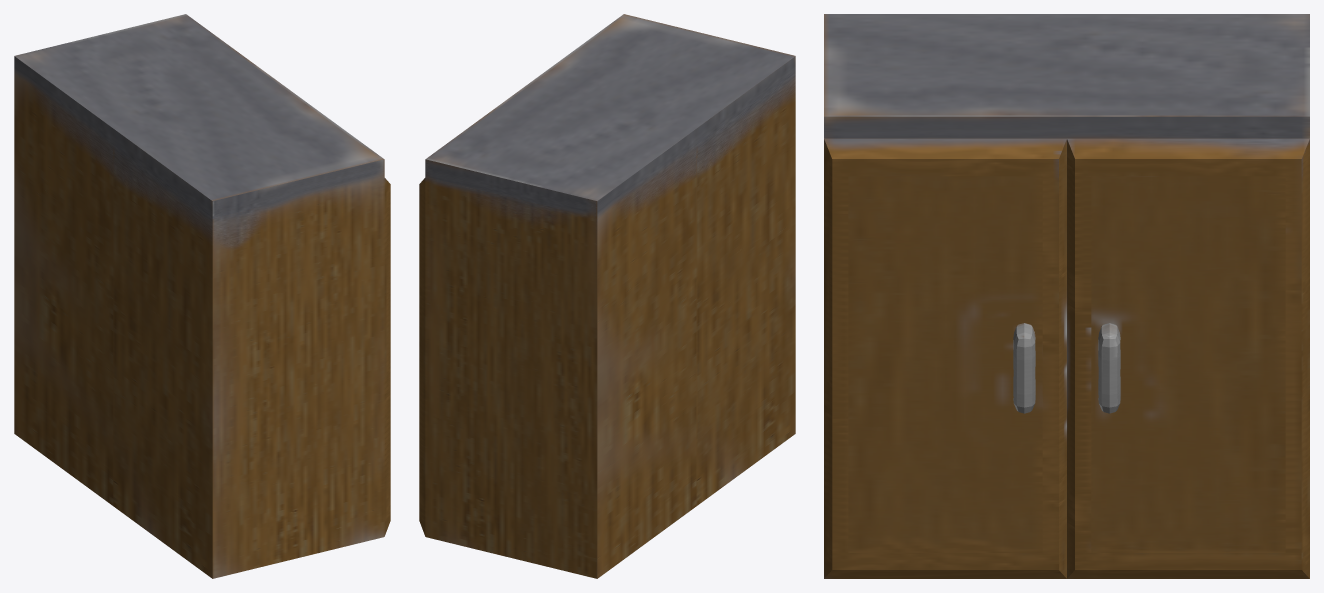
File: kitchen_cupboard.obj
The picture shows the model from 3 angles, left to right: view 1: azimuth 30°, elevation 25°; view 2: azimuth 150°, elevation 25°; view 3: azimuth 270°, elevation 25°; orthographic projection. The views are drawn at different scales.
Visible parts, largest first — view 1: Cube.004; view 2: Cube.004; view 3: Cube.004.
Part boxes in pixels (x1,y1,x2,y2): Cube.004: (14,14,390,578); Cube.004: (419,14,795,578); Cube.004: (824,14,1309,578).
Bounding box in the file's own units: 2.36 × 4.2 × 4.
